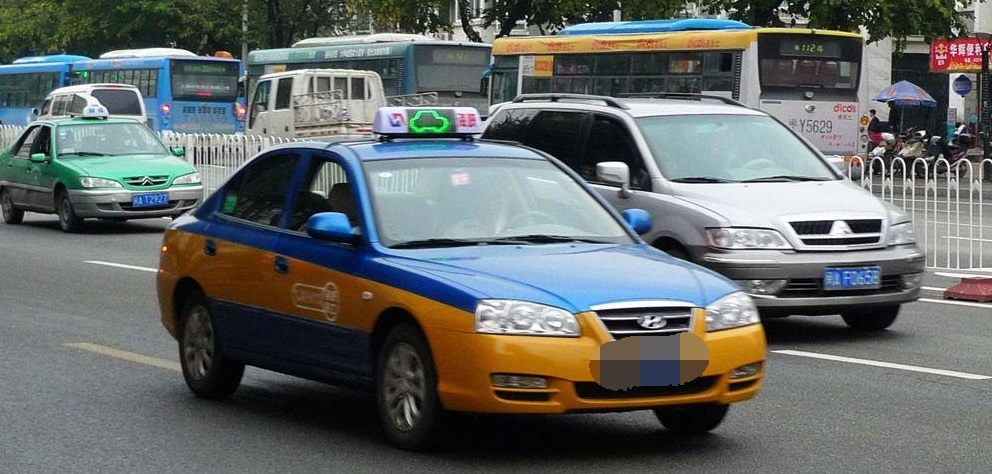minibus: (533, 83, 925, 329)
taxi: (132, 97, 783, 442), (7, 91, 203, 225)
